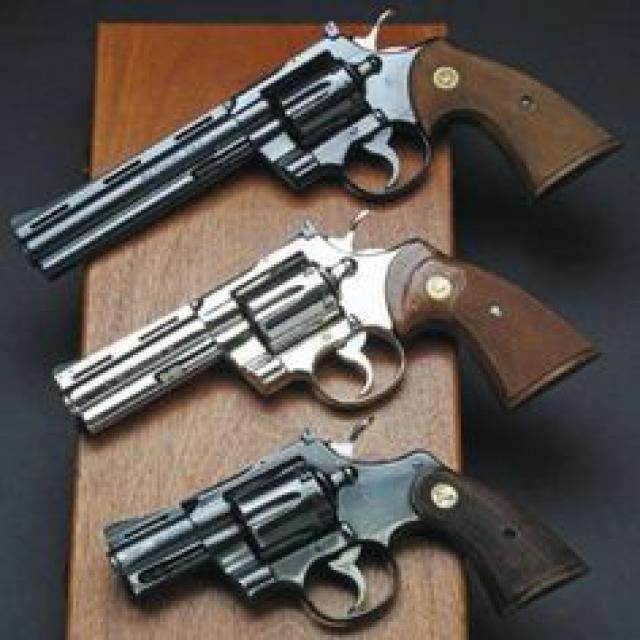revolver: (23, 424, 638, 640)
